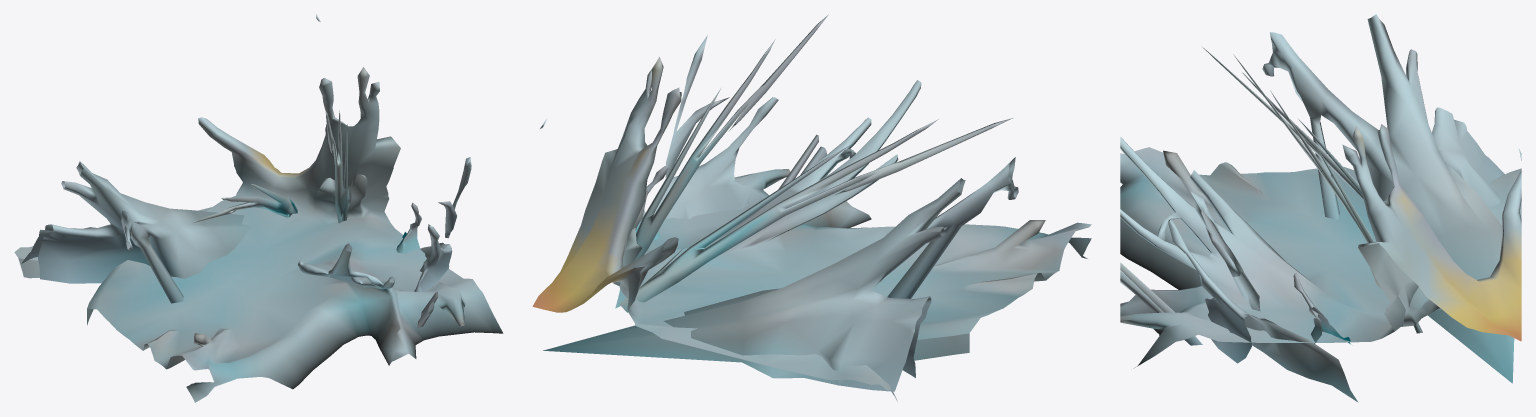
3 renders of one model, left to right at view 1: azimuth 30°, elevation 25°; view 2: azimuth 150°, elevation 25°; view 3: azimuth 270°, elevation 25°, orthographic. The views are drawn at different scales.
Parts seen in each view (by area): view 1: G:\FFXIV-MapTools\exports\s1f2\bg\ffxiv\sea_s1\fld\s1f2\bgpl (×3); view 2: G:\FFXIV-MapTools\exports\s1f2\bg\ffxiv\sea_s1\fld\s1f2\bgpl (×3); view 3: G:\FFXIV-MapTools\exports\s1f2\bg\ffxiv\sea_s1\fld\s1f2\bgpl (×3).
Boxes of the visible parts, x1=… form: G:\FFXIV-MapTools\exports\s1f2\bg\ffxiv\sea_s1\fld\s1f2\bgpl (×3): x1=14, y1=67, x2=503, y2=402; G:\FFXIV-MapTools\exports\s1f2\bg\ffxiv\sea_s1\fld\s1f2\bgpl (×3): x1=532, y1=14, x2=1091, y2=401; G:\FFXIV-MapTools\exports\s1f2\bg\ffxiv\sea_s1\fld\s1f2\bgpl (×3): x1=1120, y1=14, x2=1521, y2=402.
Bounding box in the file's own units: 128 × 97.86 × 128.
